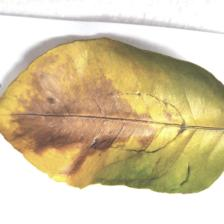black spot: (24, 85, 146, 146)
